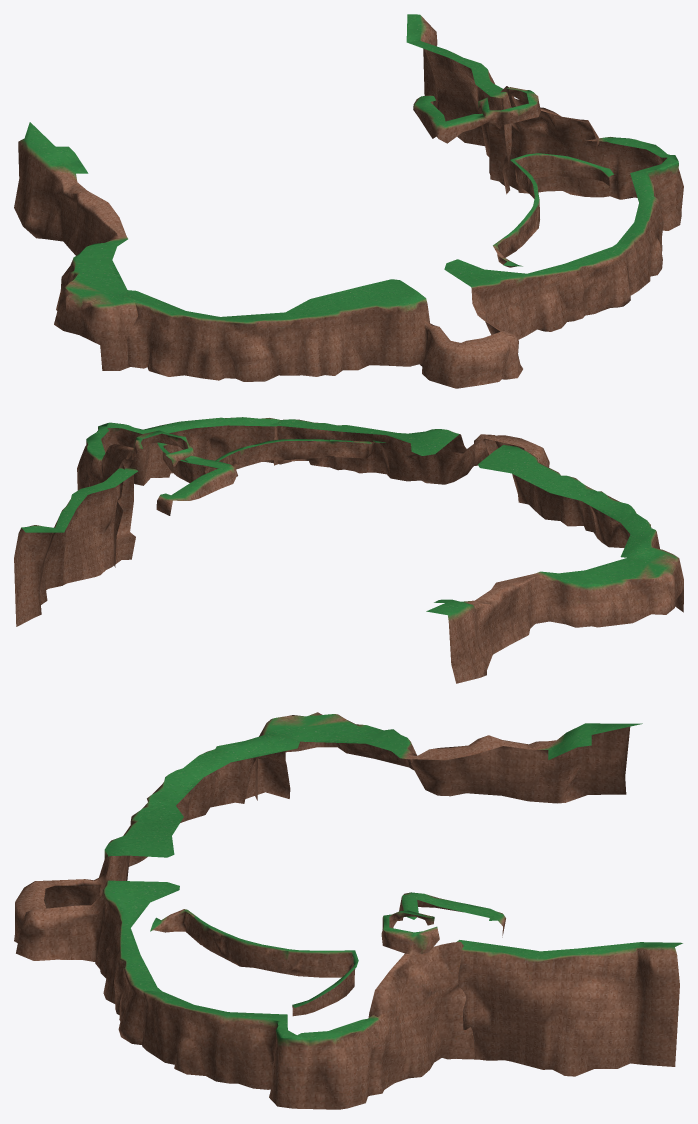
Rendered from clod_c01_both_01_clod002.gltf.
3 renders of one model, top to bottom at view 1: azimuth 30°, elevation 25°; view 2: azimuth 150°, elevation 25°; view 3: azimuth 270°, elevation 25°, orthographic. The views are drawn at different scales.
Parts seen in each view (by area): view 1: um_clod_c01_both_01_clod002_0_Shape1:aggregation_mat; view 2: um_clod_c01_both_01_clod002_0_Shape1:aggregation_mat; view 3: um_clod_c01_both_01_clod002_0_Shape1:aggregation_mat.
Boxes of the visible parts, x1,y1,x2,y2 form: um_clod_c01_both_01_clod002_0_Shape1:aggregation_mat: (14, 14, 683, 388); um_clod_c01_both_01_clod002_0_Shape1:aggregation_mat: (14, 417, 683, 683); um_clod_c01_both_01_clod002_0_Shape1:aggregation_mat: (14, 712, 682, 1109).
Size of the model in its own units: 504 by 89.92 by 427.
1 material, 1 textured.
